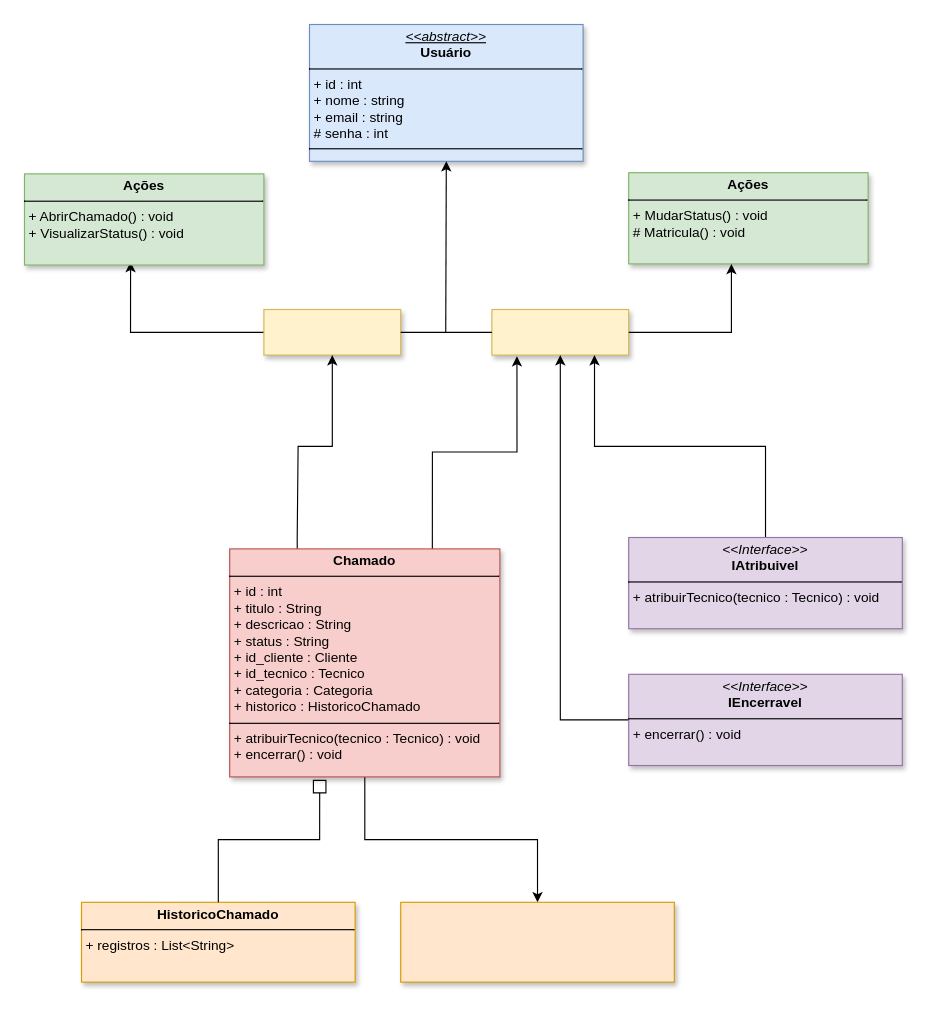
This 929x1010 diagram has some shape labels left out. The shapes that lost their labels are listed below. From the top down, each one's centre as x and y in pixels, then its label:
At point (333, 333): "Cliente".
At point (561, 333): "Tecnico".
At point (538, 943): "Categoria + id : int + nome : String".
